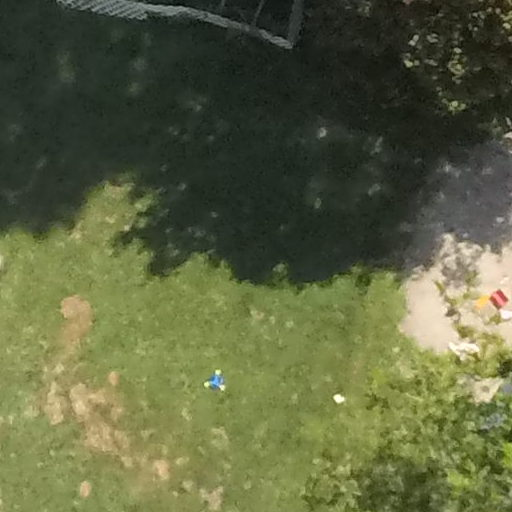toy: (198, 364, 232, 396), (483, 281, 509, 315)
